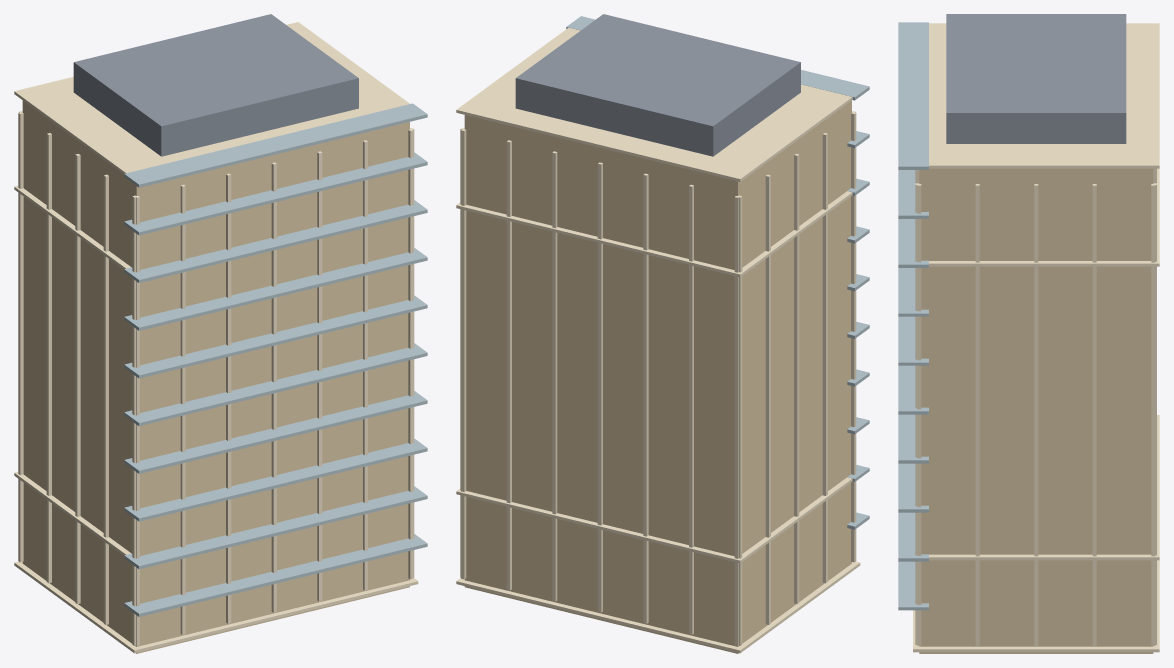
File: modern-4-lod1.glb
3 views of the same model, side by side, from view 1: azimuth 30°, elevation 25°; view 2: azimuth 150°, elevation 25°; view 3: azimuth 270°, elevation 25° (orthographic). The views are drawn at different scales.
Parts seen in each view (by area): view 1: modern-4_architecture; view 2: modern-4_architecture; view 3: modern-4_architecture.
Part boxes in pixels (bbox=[...]): modern-4_architecture: bbox=[14, 14, 427, 653]; modern-4_architecture: bbox=[456, 14, 869, 653]; modern-4_architecture: bbox=[898, 14, 1159, 653].
Bounding box in the file's own units: 19 × 32 × 14.5.
